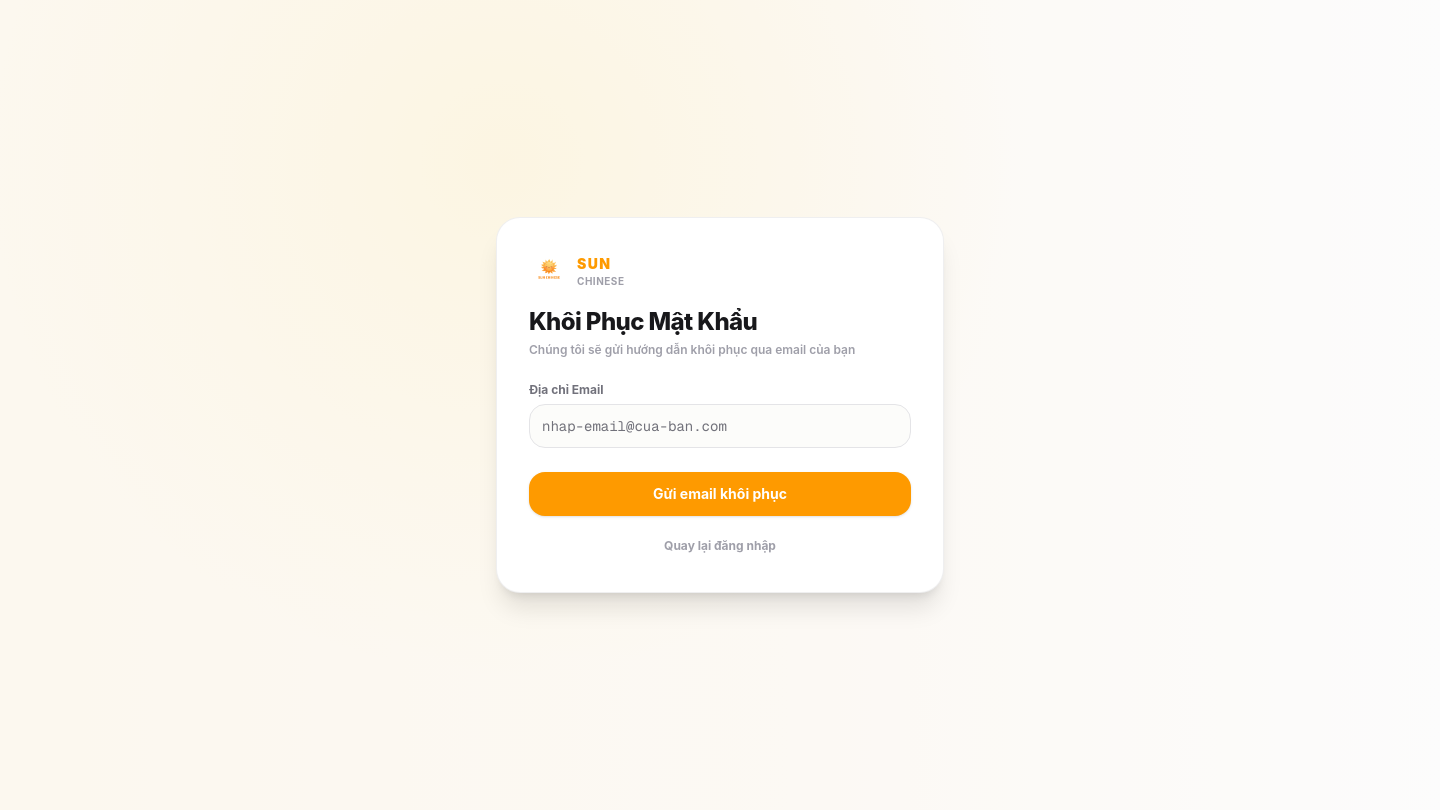
Test case: ForgotPasswordPage › shows error when request fails
Type "an@example.com" into the field labelled "Địa chỉ Email" at (720, 426), box [529,404,911,448]
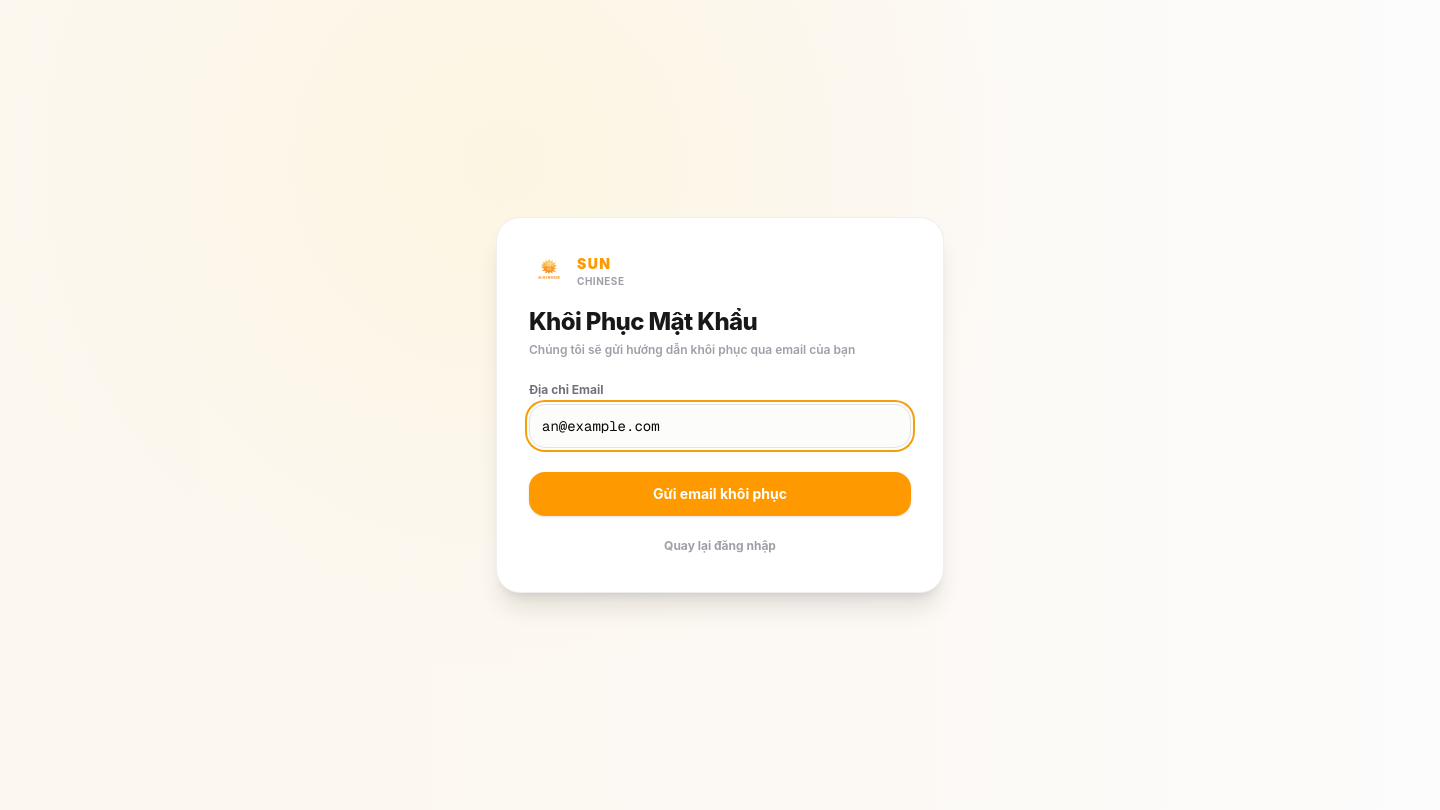
Click the button "Gửi email khôi phục" at (720, 494), box [529,472,911,516]
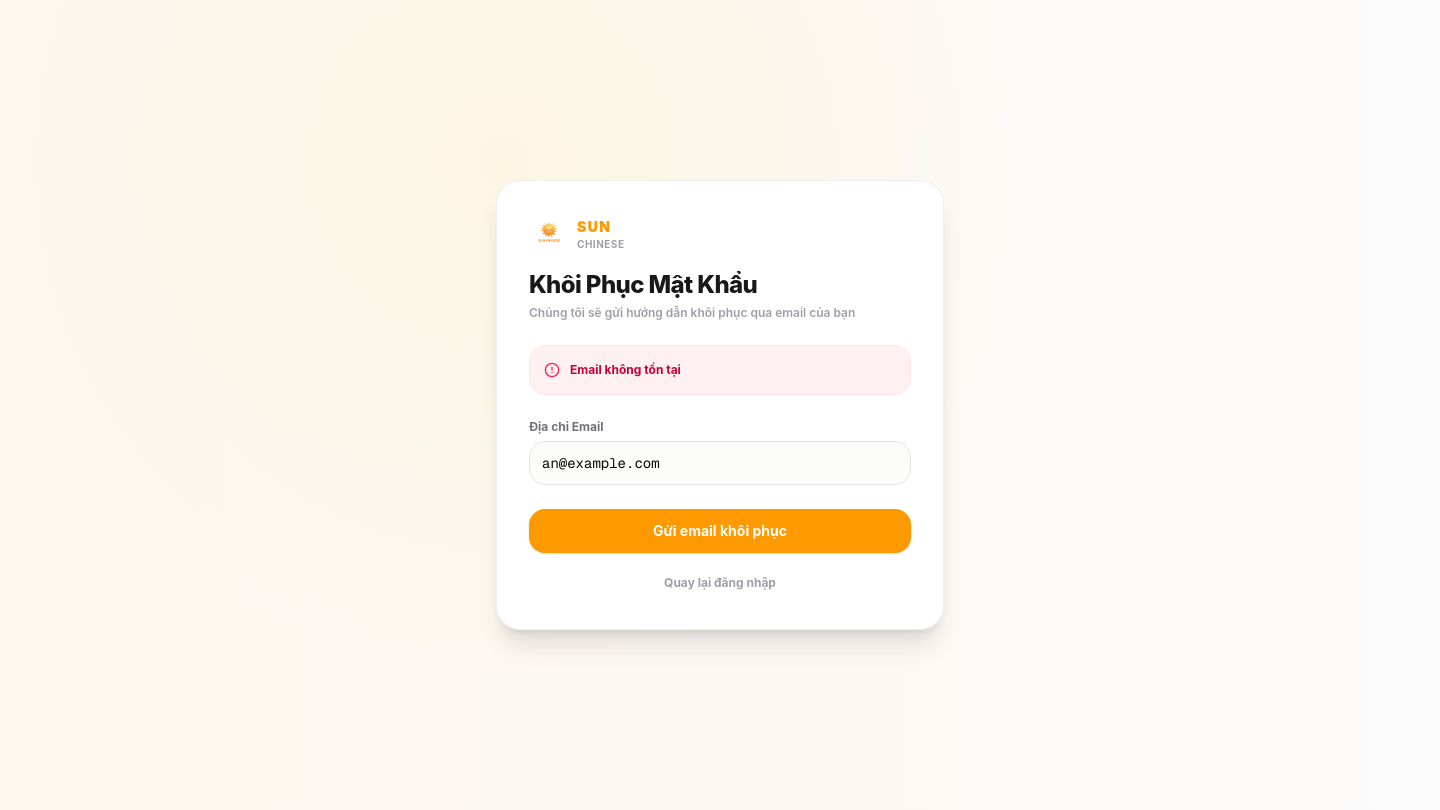
expect the text "Email không tồn tại" is shown: met, box [570,360,681,380]
